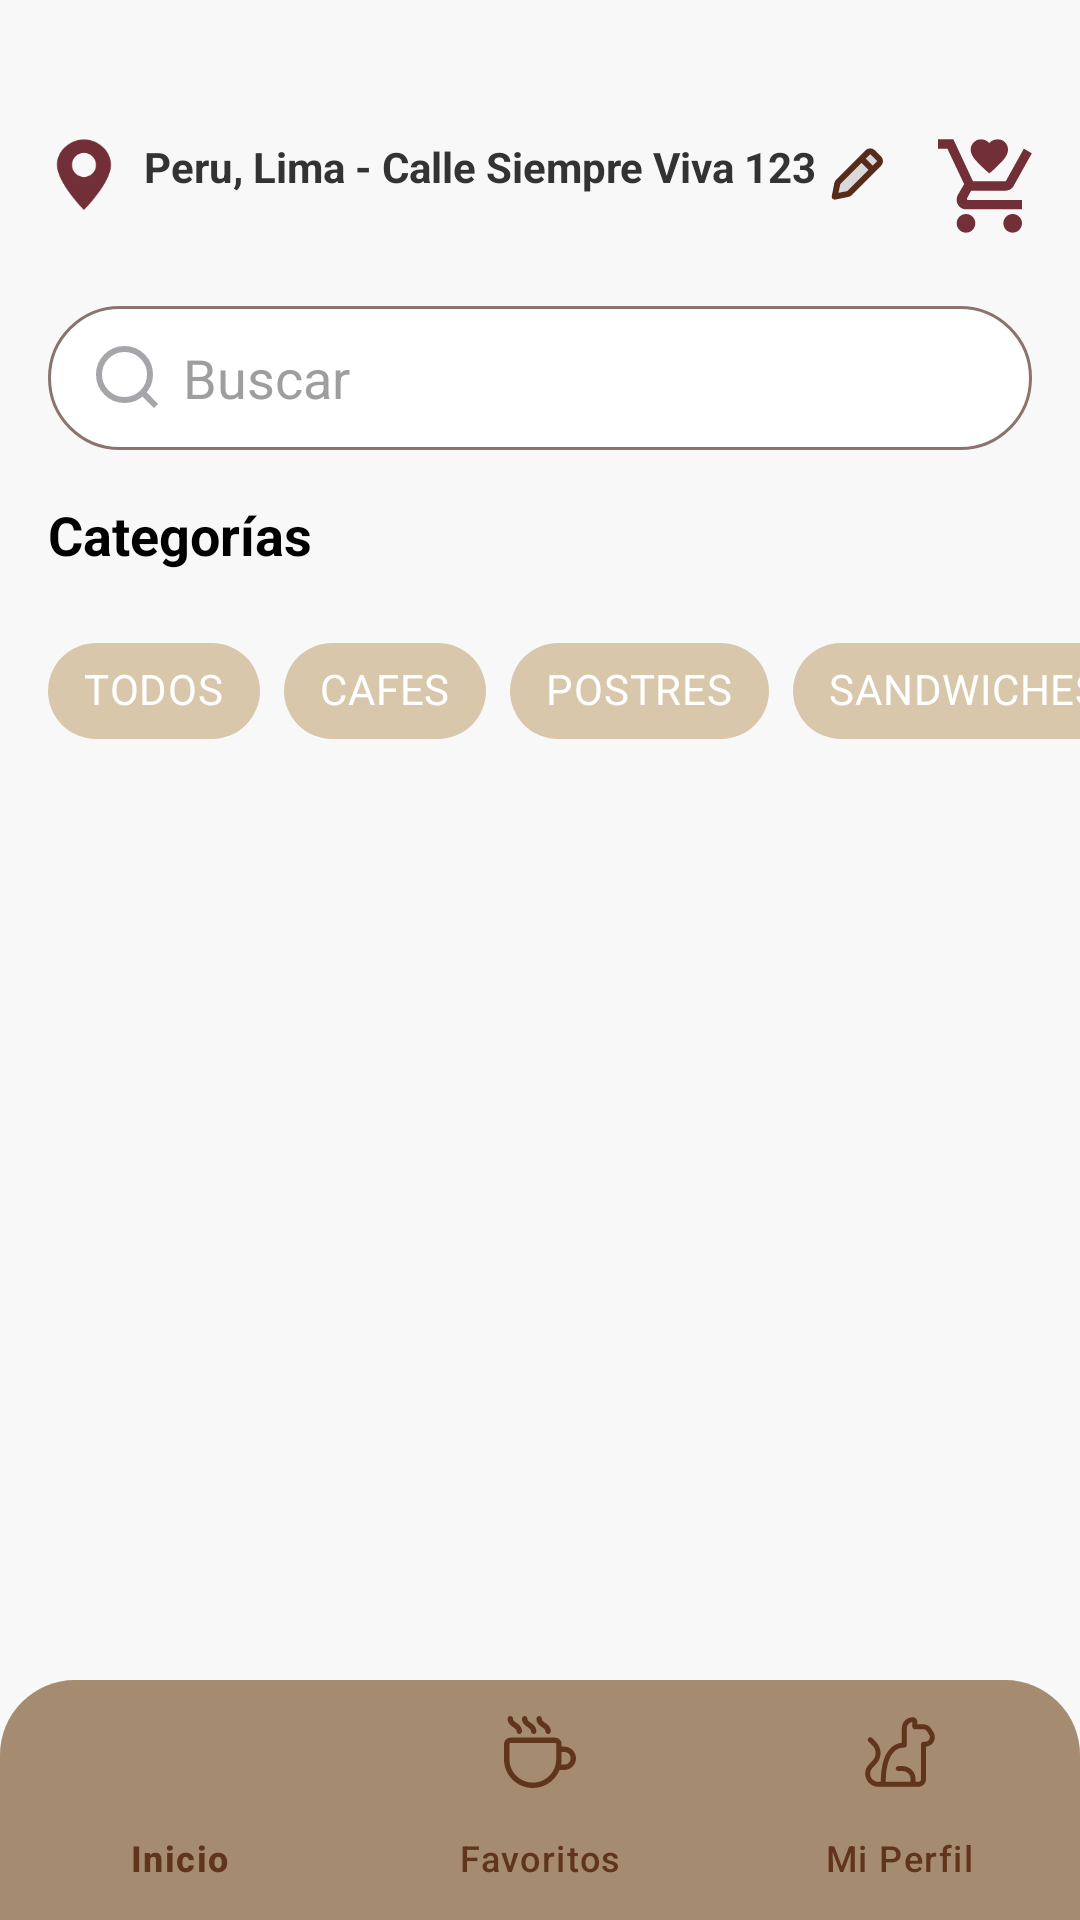

Where to tap for icons on this 1080x1920 app screen, as point (x, y):
cart: point (985, 186)
location: point (84, 174)
pencil: point (857, 174)
